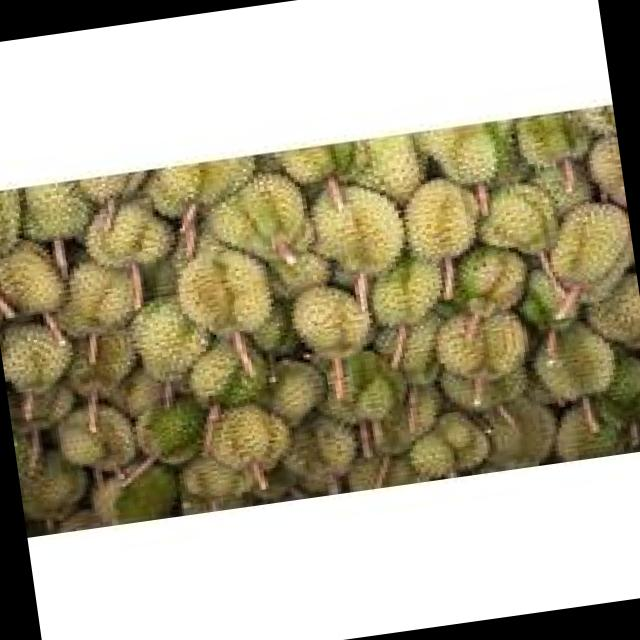fruit: (533, 186, 640, 321), (274, 264, 384, 372), (390, 162, 492, 274)
